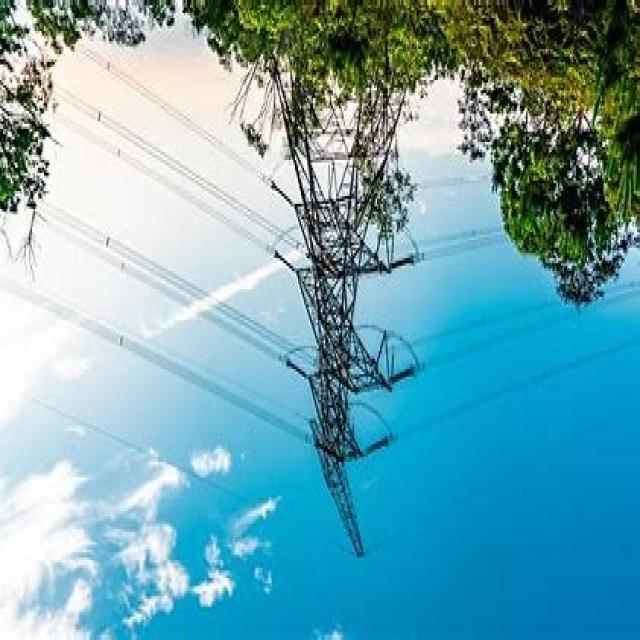utility poles: (501, 133, 628, 412), (334, 87, 452, 320)
